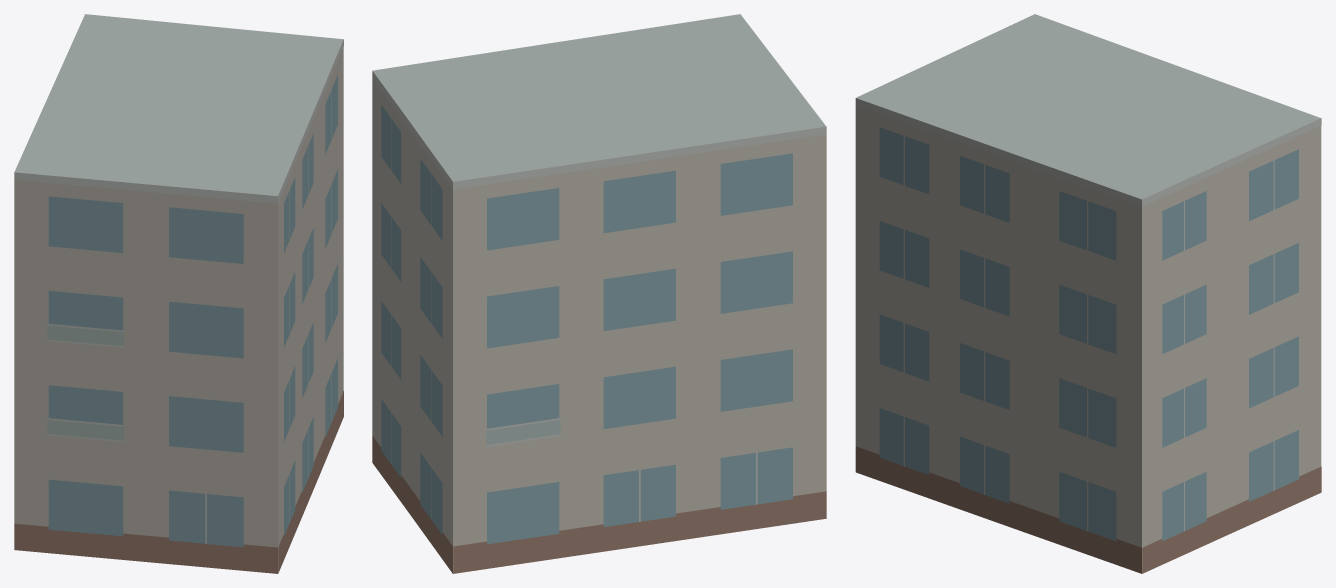
Rendered from survey-upis-32524467.glb.
The picture shows the model from 3 angles, left to right: view 1: azimuth 30°, elevation 25°; view 2: azimuth 150°, elevation 25°; view 3: azimuth 270°, elevation 25°; orthographic projection. The views are drawn at different scales.
Visible parts, largest first — view 1: survey-upis-32524467.tmp; view 2: survey-upis-32524467.tmp; view 3: survey-upis-32524467.tmp.
Part boxes in pixels (x1,y1,x2,y2): survey-upis-32524467.tmp: (14,14,343,573); survey-upis-32524467.tmp: (372,14,826,573); survey-upis-32524467.tmp: (855,14,1321,573).
Bounding box in the file's own units: 13.19 × 12.4 × 13.99.
